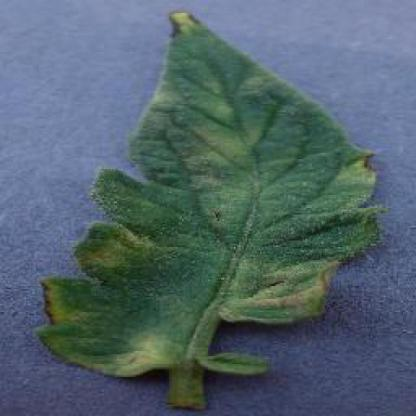Tomato_Leaf_Mold: (40, 14, 378, 369)
